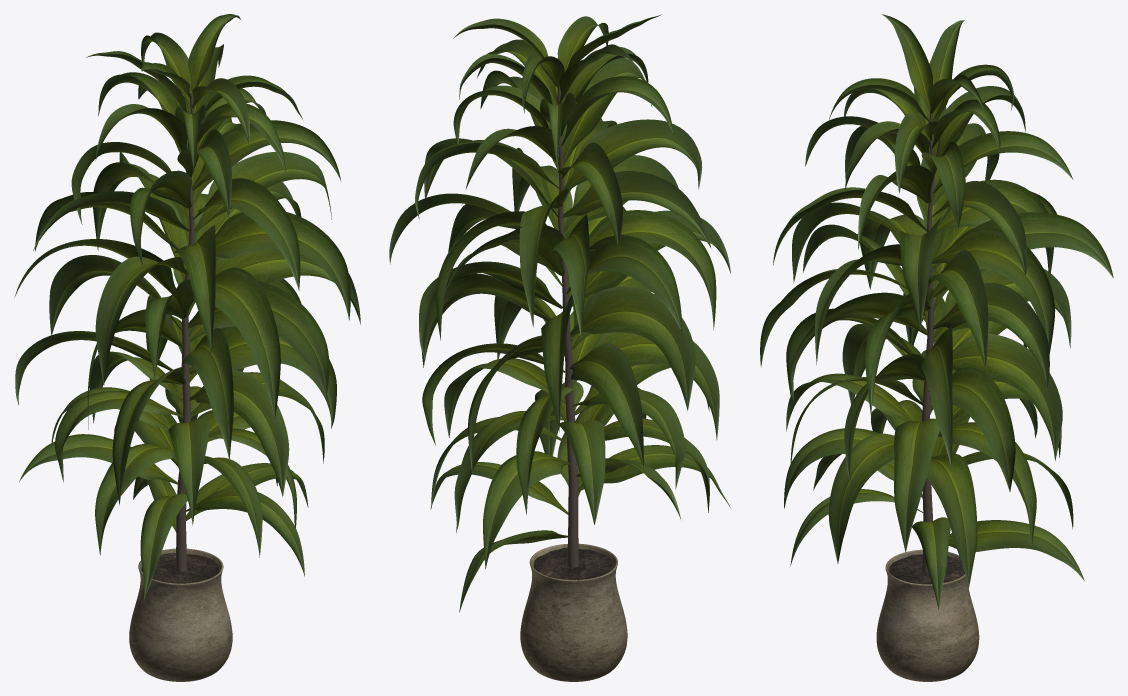
The model's file is plant.glb.
The picture shows the model from 3 angles, left to right: view 1: azimuth 30°, elevation 25°; view 2: azimuth 150°, elevation 25°; view 3: azimuth 270°, elevation 25°; orthographic projection. The views are drawn at different scales.
Visible parts, largest first — view 1: plant, Cylinder001, Cylinder002; view 2: plant, Cylinder001, Cylinder002; view 3: plant, Cylinder001, Cylinder002.
Part boxes in pixels (left/top/right/bottom): plant: left=14, top=14, right=360, bottom=600; Cylinder001: left=129, top=548, right=232, bottom=681; Cylinder002: left=141, top=552, right=219, bottom=583; plant: left=389, top=14, right=731, bottom=612; Cylinder001: left=520, top=543, right=627, bottom=681; Cylinder002: left=533, top=547, right=614, bottom=579; plant: left=760, top=14, right=1113, bottom=609; Cylinder001: left=876, top=549, right=979, bottom=681; Cylinder002: left=889, top=554, right=964, bottom=584.
Size of the model in its own units: 616 by 1267 by 652.
Materials: 4 (3 with a texture image).
